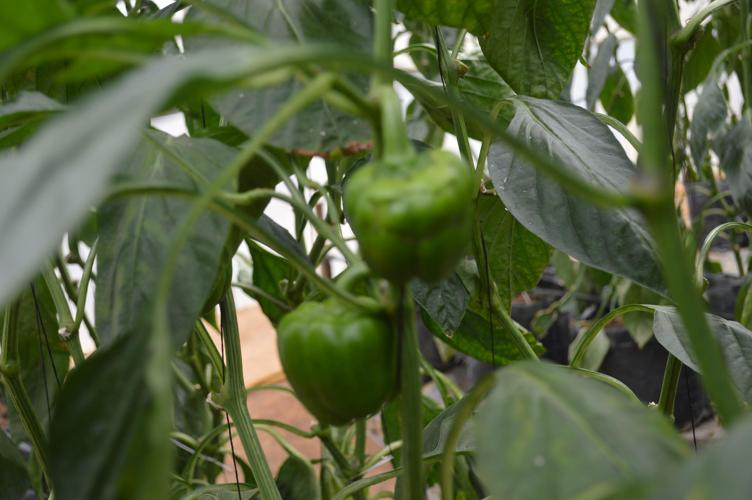BellPepper: (342, 151, 470, 285), (276, 299, 391, 417)
